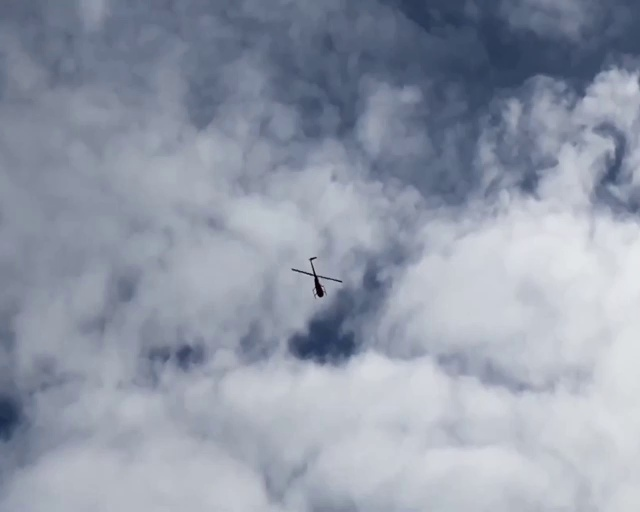HELICOPTER: (291, 256, 342, 299)
